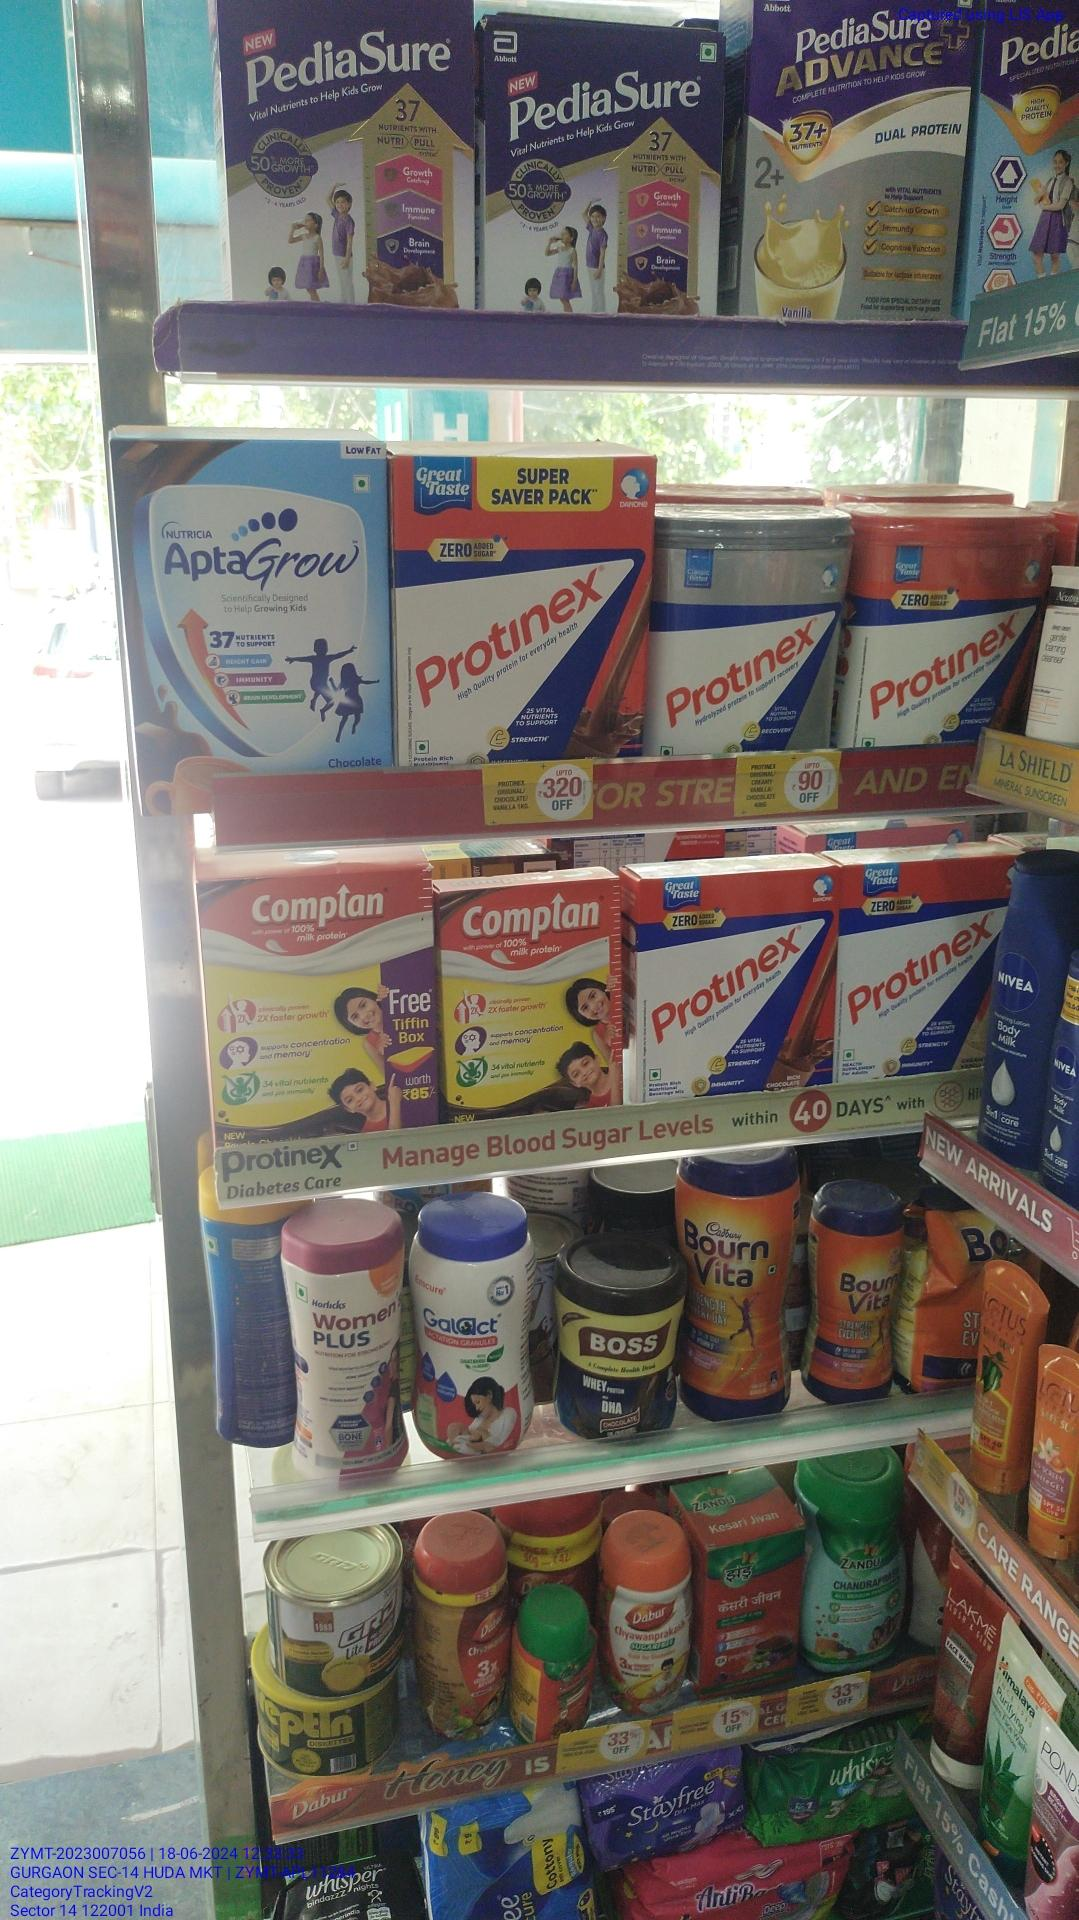BOURN_VITA_200_G_JAR: (811, 1193, 900, 1402)
BOURN_VITA_500_G_JAR: (686, 1154, 795, 1419)
COMPLAN_CHOCOLATE_500_GMS_PACK: (203, 868, 431, 1127), (439, 889, 623, 1105)
PEDIASURE_CHOCOLATE_500_G_PACK: (220, 0, 476, 307), (484, 17, 719, 326)
PROTINEX_CHOCOLATE_400_G_JAR: (849, 506, 1029, 732)
PROTINEX_ORIGINAL_400_G_JAR: (658, 517, 836, 749)
